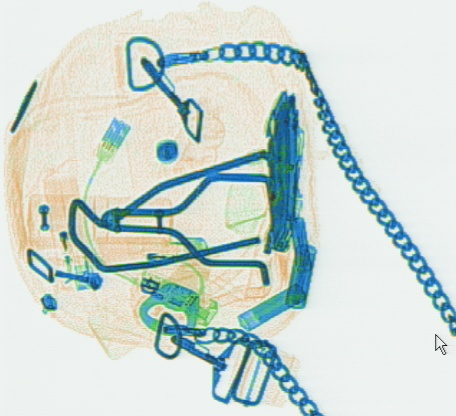knife: (260, 87, 304, 255)
lighter: (42, 164, 98, 293), (93, 232, 207, 267)
slingshot: (23, 172, 275, 286)
